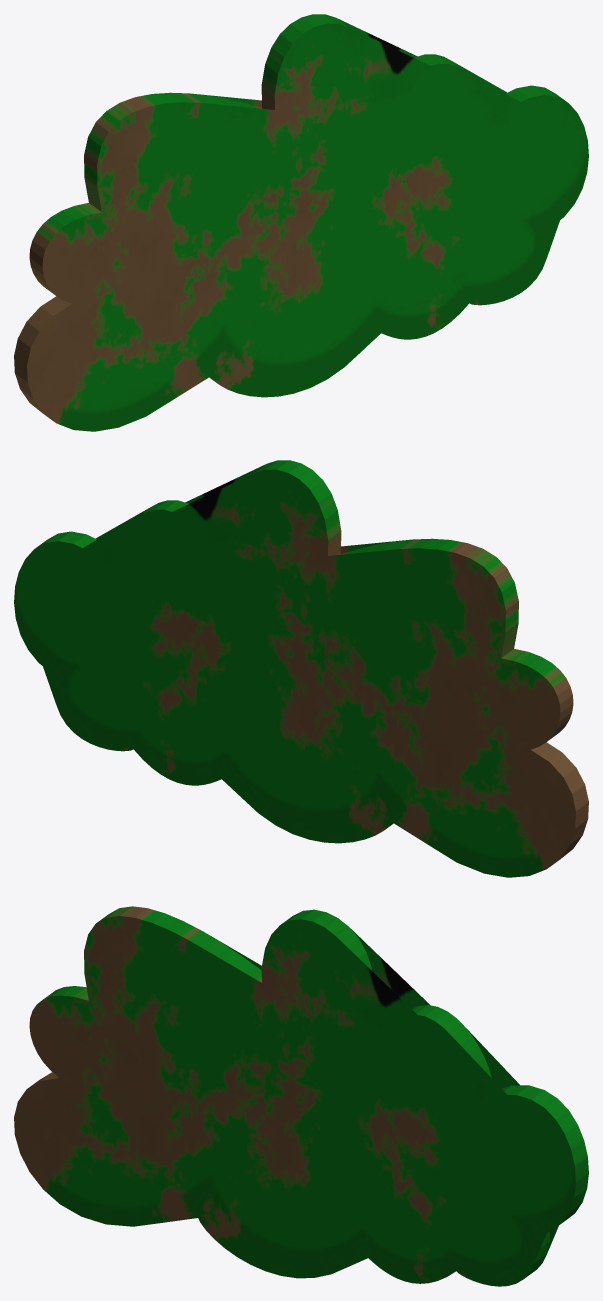
The model's file is arbusto 4.fbx.
3 views of the same model, one above another, from view 1: azimuth 30°, elevation 25°; view 2: azimuth 150°, elevation 25°; view 3: azimuth 330°, elevation 25° (orthographic).
Parts seen in each view (by area): view 1: arbusto 4; view 2: arbusto 4; view 3: arbusto 4.
Boxes of the visible parts, bbox=[...] form: arbusto 4: bbox=[14, 14, 588, 431]; arbusto 4: bbox=[14, 460, 588, 877]; arbusto 4: bbox=[14, 906, 588, 1286].
Size of the model in its own units: 442 by 272 by 17.73.
1 material, 1 textured.
